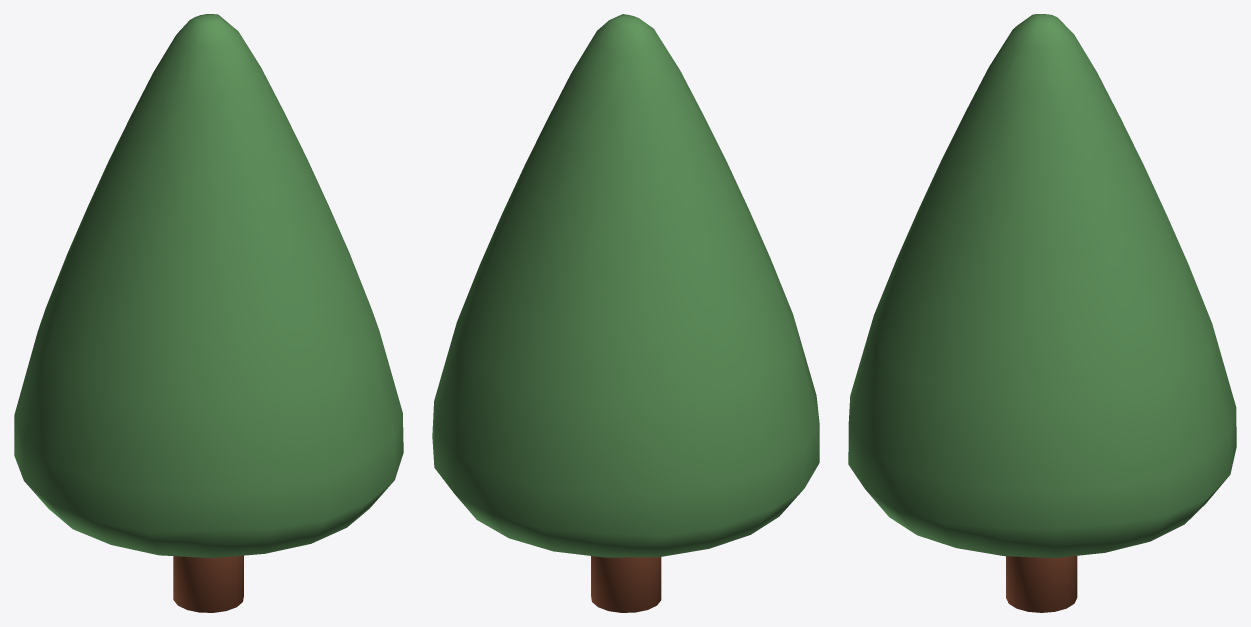
The model's file is Triangle Tree.fbx.
3 renders of one model, left to right at view 1: azimuth 30°, elevation 25°; view 2: azimuth 150°, elevation 25°; view 3: azimuth 270°, elevation 25°, orthographic.
Visible parts, largest first — view 1: Retopo_Leaves.002, Trunk.060; view 2: Retopo_Leaves.002, Trunk.060; view 3: Retopo_Leaves.002, Trunk.060.
Part boxes in pixels (<box>): Retopo_Leaves.002: <box>14,14,403,558</box>; Trunk.060: <box>173,555,243,612</box>; Retopo_Leaves.002: <box>432,14,819,557</box>; Trunk.060: <box>591,556,661,612</box>; Retopo_Leaves.002: <box>848,14,1236,558</box>; Trunk.060: <box>1006,556,1077,612</box>.
Size of the model in its own units: 129 by 212 by 129.
